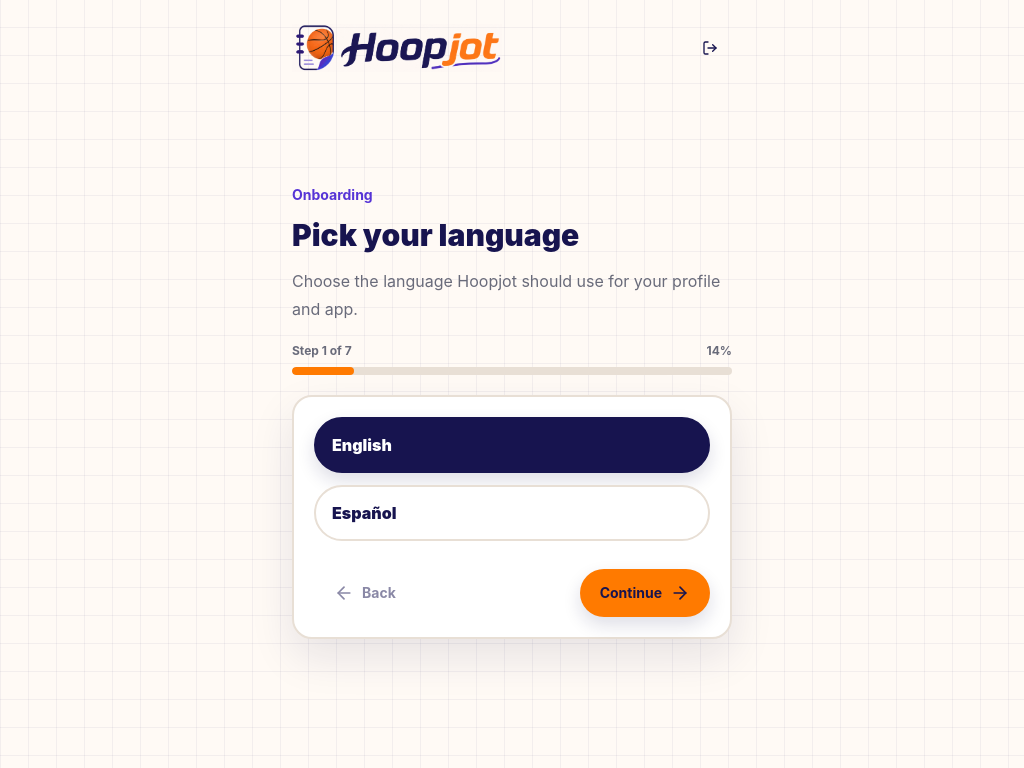
Test: OnboardingRoute › blocks players below the minimum age
Click the button "Continue": [645, 593] box x1=580 y1=569 x2=710 y2=617
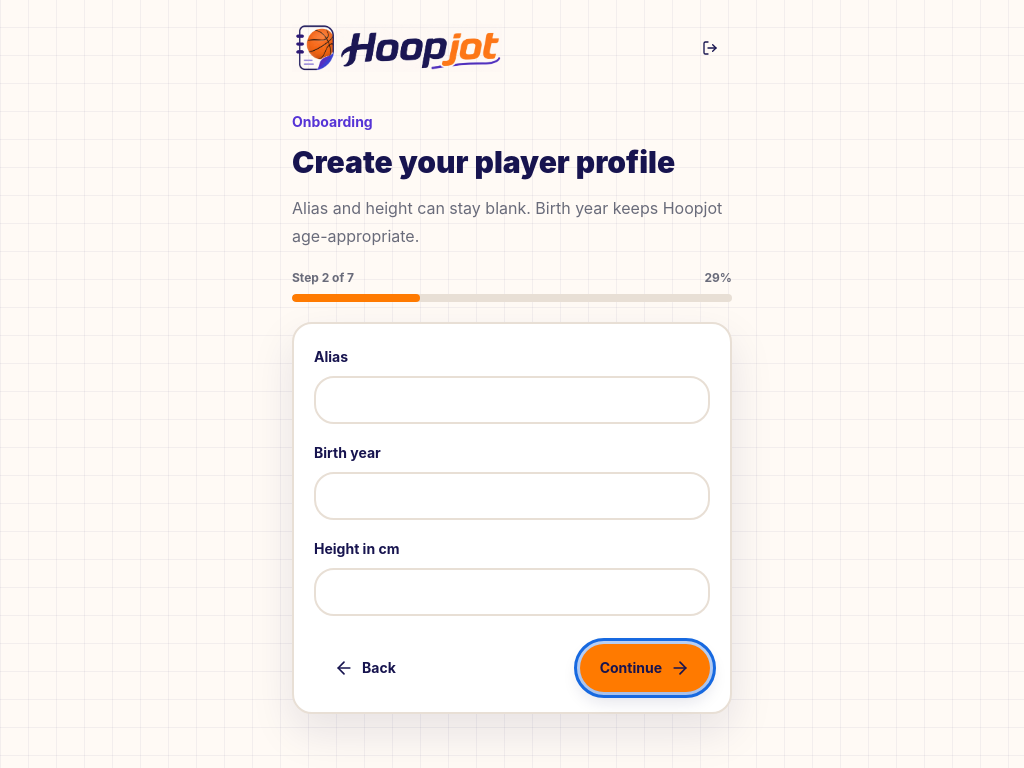
In the number field labelled "Birth year": [512, 496] box x1=314 y1=472 x2=710 y2=520, type "2011"
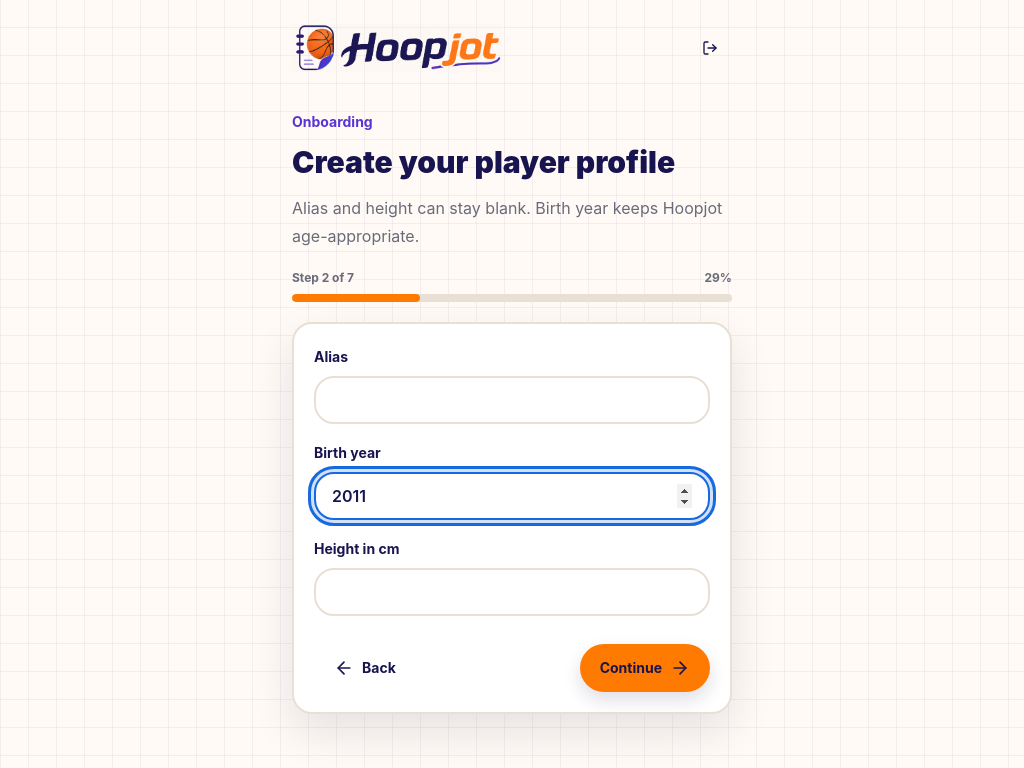
Click the button "Continue": [645, 668] box x1=580 y1=644 x2=710 y2=692
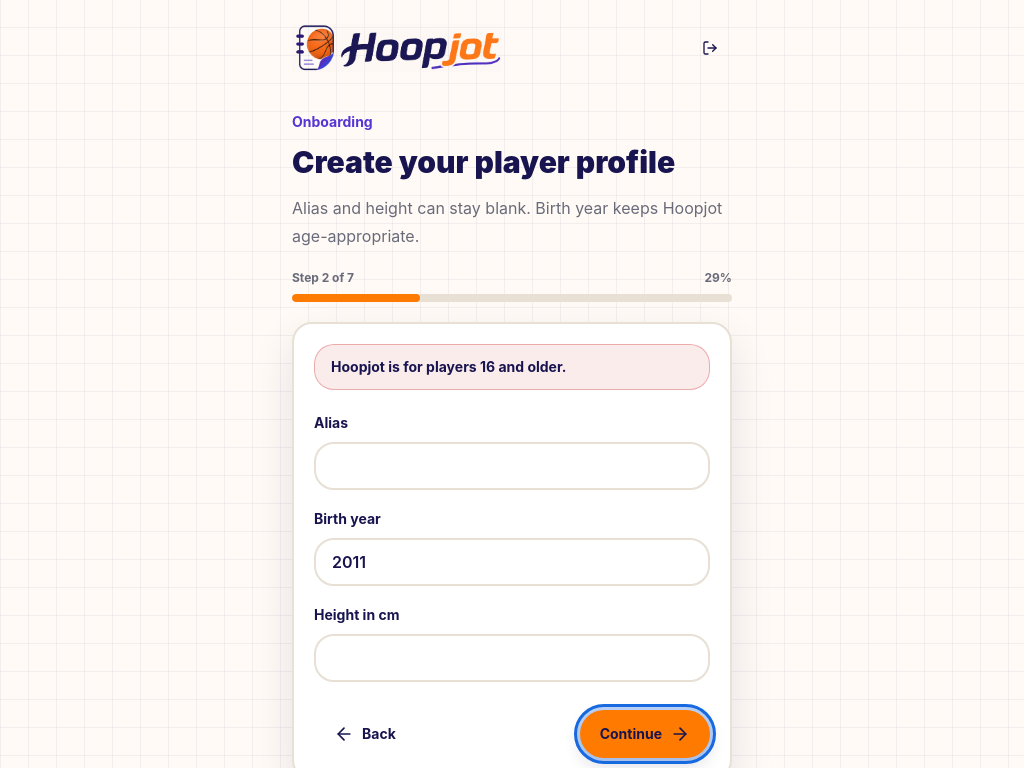
Expected: the heading "Create your player profile" is shown, x1=292 y1=144 x2=732 y2=182
Expected: the text "Hoopjot is for players 16 and older." is shown, x1=314 y1=344 x2=710 y2=390
